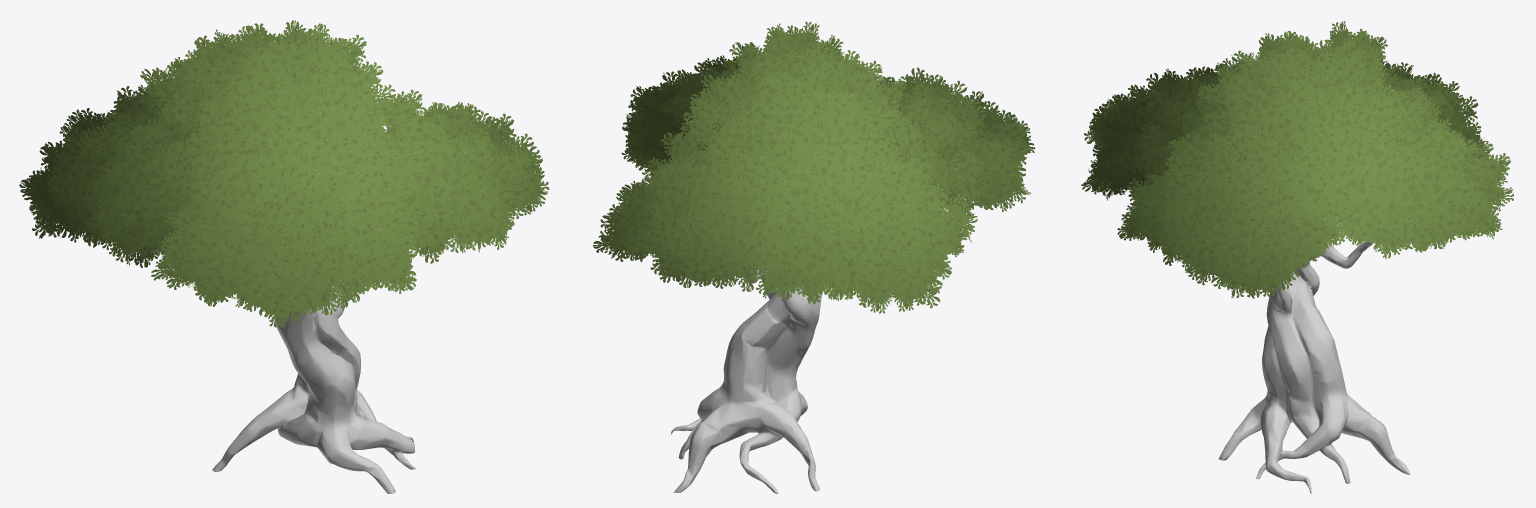
The model's file is Tree02.fbx.
The picture shows the model from 3 angles, left to right: view 1: azimuth 30°, elevation 25°; view 2: azimuth 150°, elevation 25°; view 3: azimuth 270°, elevation 25°; orthographic projection. The views are drawn at different scales.
Visible parts, largest first — view 1: Tree02LOD0; view 2: Tree02LOD0; view 3: Tree02LOD0.
Boxes of the visible parts, bbox=[...] form: Tree02LOD0: bbox=[19, 20, 549, 493]; Tree02LOD0: bbox=[593, 21, 1035, 493]; Tree02LOD0: bbox=[1081, 21, 1513, 493].
Size of what is drawn, in the model's own units: 1095 by 1122 by 1106.
